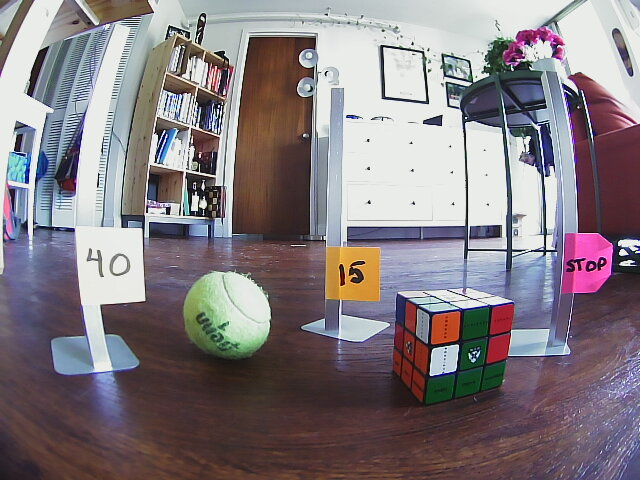15: (325, 248, 380, 300)
40: (73, 224, 147, 303)
ball: (185, 274, 272, 358)
cube: (395, 291, 512, 402)
stop: (563, 233, 613, 296)
